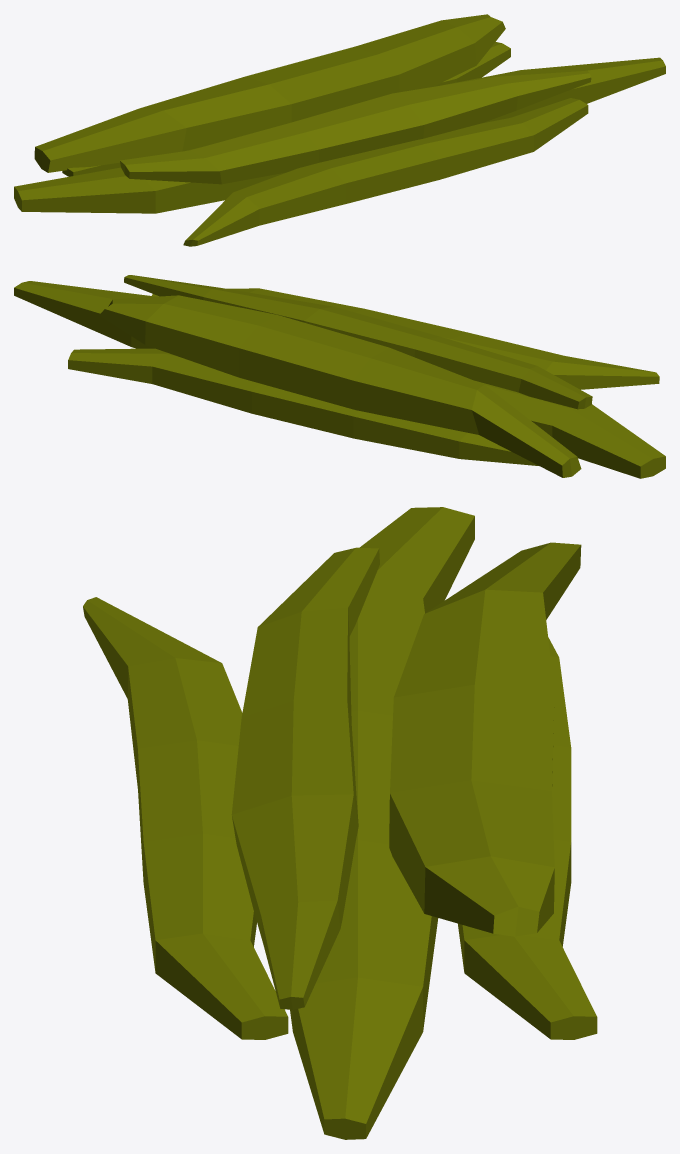
File: GreenBeans.glb
The picture shows the model from 3 angles, top to bottom: view 1: azimuth 30°, elevation 25°; view 2: azimuth 150°, elevation 25°; view 3: azimuth 270°, elevation 25°; orthographic projection. The views are drawn at different scales.
Visible parts, largest first — view 1: GreenBeans; view 2: GreenBeans; view 3: GreenBeans.
Boxes of the visible parts, box(x1,y1,x2,y2) form: GreenBeans: box(14, 14, 665, 246); GreenBeans: box(14, 275, 665, 478); GreenBeans: box(83, 507, 597, 1139).
Size of the model in its own units: 0.2948 by 0.033 by 0.1047.
